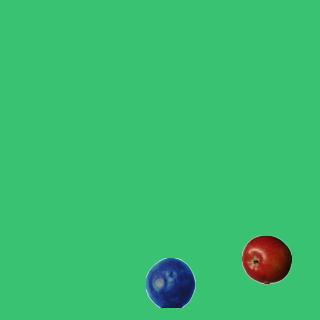Apple Braeburn: (241, 234, 291, 284)
Huckleberry: (145, 257, 195, 307)
